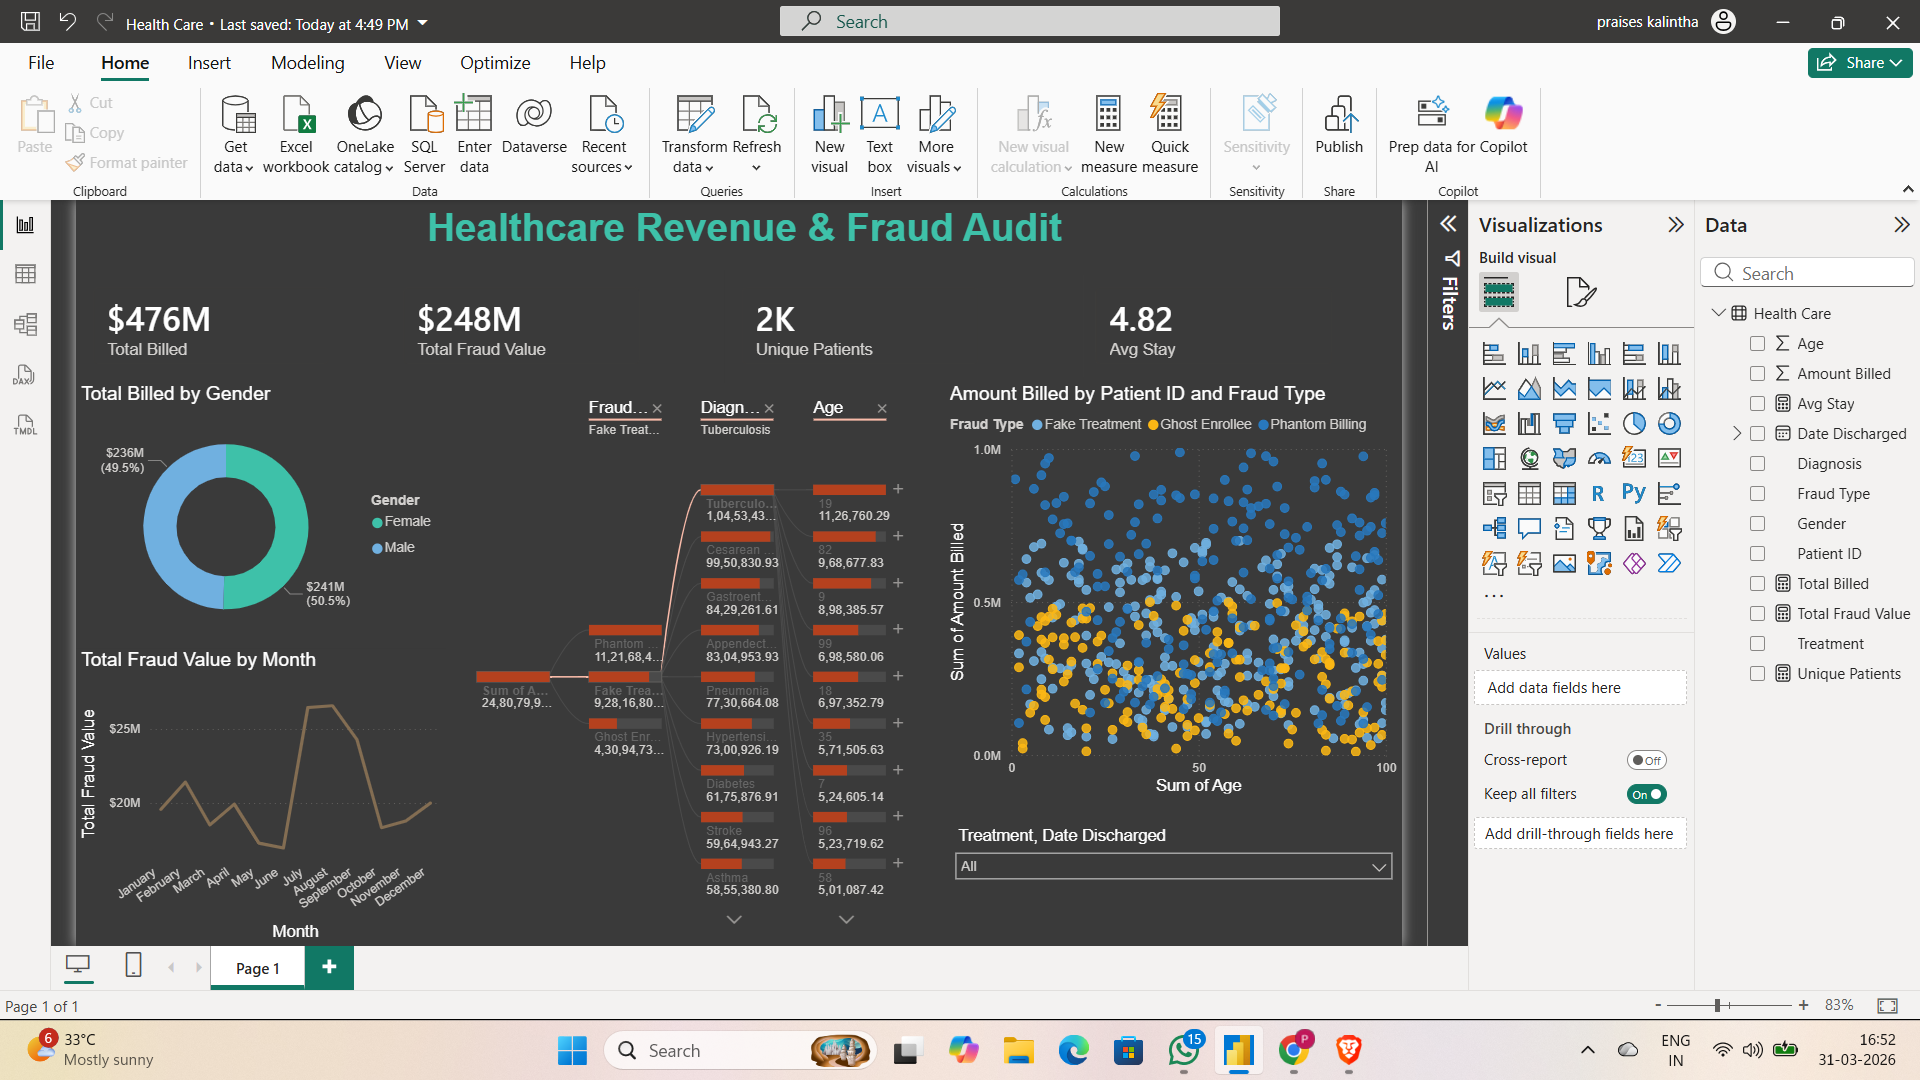

Layout of this report page (visuals, bound fields, positions):
{"tool":"powerbi","page":{"name":"Page 1","canvas":[1280,720],"ordinal":0},"visuals":[{"type":"textbox","box":[9.6,0,1270.7,76.8],"z":0},{"type":"cardVisual","fields":{"Data":["Health Care.Total Billed"]},"box":[0,67.6,261.8,108.6],"z":1000},{"type":"cardVisual","fields":{"Data":["Health Care.Total Fraud Value"]},"box":[299.1,67.2,262.1,108.4],"z":2000},{"type":"cardVisual","fields":{"Data":["Health Care.Unique Patients"]},"box":[625.7,67.2,262.1,108.4],"z":3000},{"type":"cardVisual","fields":{"Data":["Health Care.Avg Stay (Days)"]},"box":[967.4,67.2,262.1,108.4],"z":4000},{"type":"donutChart","fields":{"Category":["Health Care.Gender"],"Y":["Health Care.Total Billed"]},"box":[0,175.6,356.8,258],"z":5000},{"type":"lineChart","fields":{"Category":["Health Care.Date Discharged.Variation.Date Hierarchy.Month"],"Y":["Health Care.Total Fraud Value"]},"box":[0,433.6,356.8,286.8],"z":6000},{"type":"scatterChart","title":"Amount Billed by Patient ID and Fraud Type","fields":{"X":["Sum(Health Care.Age)"],"Series":["Health Care.Fraud Type"],"Y":["Sum(Health Care.Amount Billed)"],"Category":["Health Care.Patient ID"]},"box":[838.4,175.6,441.9,402.1],"z":8000},{"type":"slicer","fields":{"Values":["Health Care.Treatment","Health Care.Date Discharged"]},"box":[838.4,599.7,441.9,120.8],"z":9000},{"type":"decompositionTreeVisual","fields":{"ExplainBy":["Health Care.Fraud Type","Health Care.Diagnosis","Health Care.Age","Health Care.Gender"],"Analyze":["Sum(Health Care.Amount Billed)"]},"box":[356.8,175.6,481.6,544.8],"z":9001}]}

Visuals, with their boxes on the page's 1280x720 design canvas (x1, y1, x2, y2). These are canvas units, not pixel positions in the 1920x1080 screenshot, which may show the page scaled, cropped or inside an application window:
textbox: (x1=10, y1=0, x2=1280, y2=77)
cardVisual - Health Care.Total Billed: (x1=0, y1=68, x2=262, y2=176)
cardVisual - Health Care.Total Fraud Value: (x1=299, y1=67, x2=561, y2=176)
cardVisual - Health Care.Unique Patients: (x1=626, y1=67, x2=888, y2=176)
cardVisual - Health Care.Avg Stay (Days): (x1=967, y1=67, x2=1230, y2=176)
donutChart - Health Care.Gender x Health Care.Total Billed: (x1=0, y1=176, x2=357, y2=434)
lineChart - Health Care.Date Discharged.Variation.Date Hierarchy.Month x Health Care.Total Fraud Value: (x1=0, y1=434, x2=357, y2=720)
"Amount Billed by Patient ID and Fraud Type" scatterChart: (x1=838, y1=176, x2=1280, y2=578)
slicer - Health Care.Treatment x Health Care.Date Discharged: (x1=838, y1=600, x2=1280, y2=720)
decompositionTreeVisual - Health Care.Fraud Type x Health Care.Diagnosis: (x1=357, y1=176, x2=838, y2=720)
